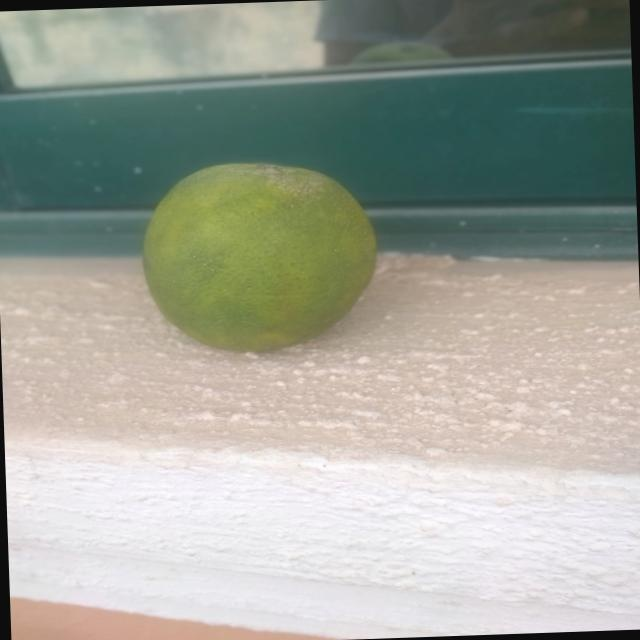agrume: (130, 145, 389, 373)
